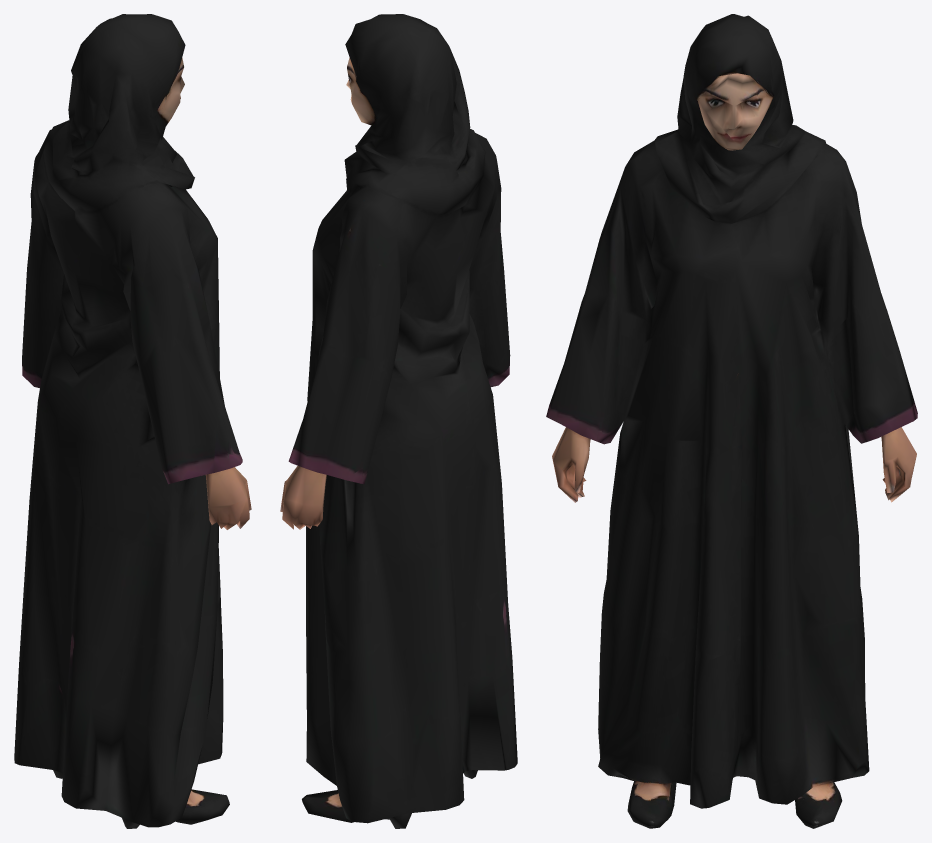
The model's file is person-abaya.glb.
3 renders of one model, left to right at view 1: azimuth 30°, elevation 25°; view 2: azimuth 150°, elevation 25°; view 3: azimuth 270°, elevation 25°, orthographic.
Visible parts, largest first — view 1: tripo_node_31d2988a-8165-4264-91f5-4fa13153a392; view 2: tripo_node_31d2988a-8165-4264-91f5-4fa13153a392; view 3: tripo_node_31d2988a-8165-4264-91f5-4fa13153a392.
Part boxes in pixels (bbox=[...]): tripo_node_31d2988a-8165-4264-91f5-4fa13153a392: bbox=[14, 14, 251, 828]; tripo_node_31d2988a-8165-4264-91f5-4fa13153a392: bbox=[280, 14, 517, 828]; tripo_node_31d2988a-8165-4264-91f5-4fa13153a392: bbox=[546, 14, 917, 828].
Bounding box in the file's own units: 0.2265 × 0.9999 × 0.429.
1 material, 1 textured.
